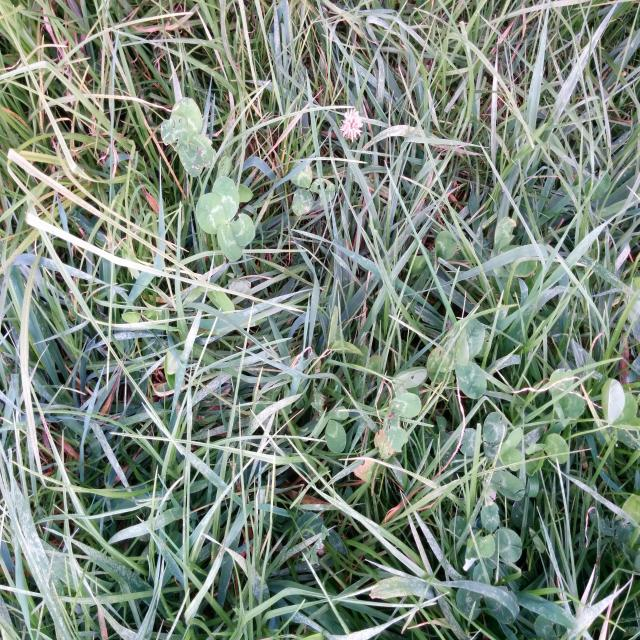Four Leaf Clover: (196, 179, 255, 261), (161, 97, 216, 177)
